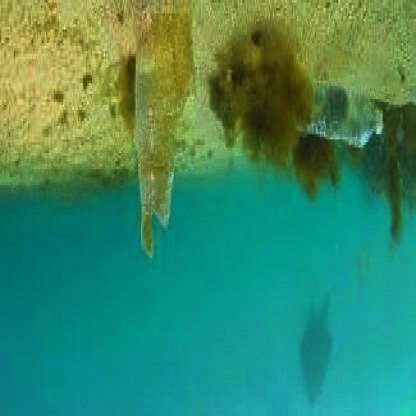pbottle: (130, 6, 190, 268), (289, 40, 389, 148)
